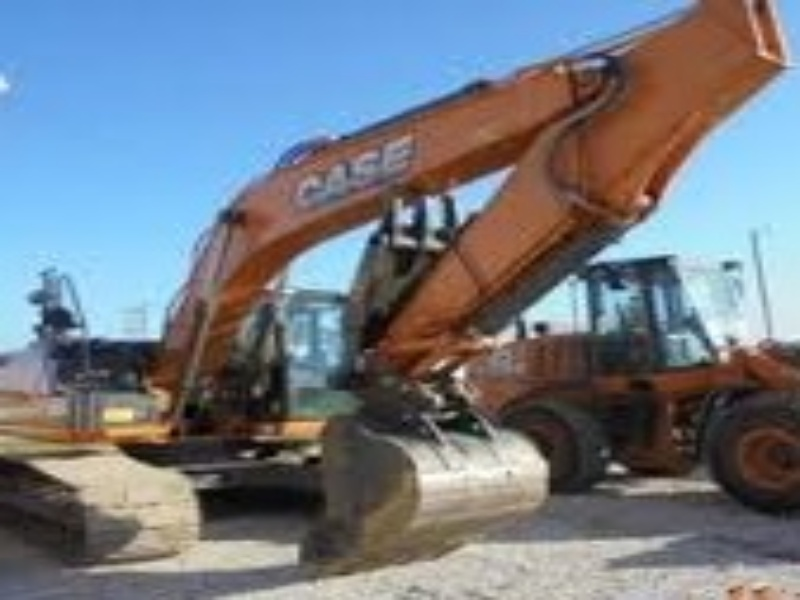wajueji: (8, 215, 548, 554)
